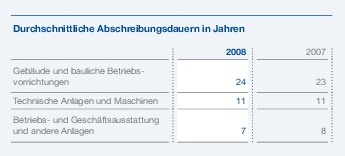table: (0, 0, 345, 156)
